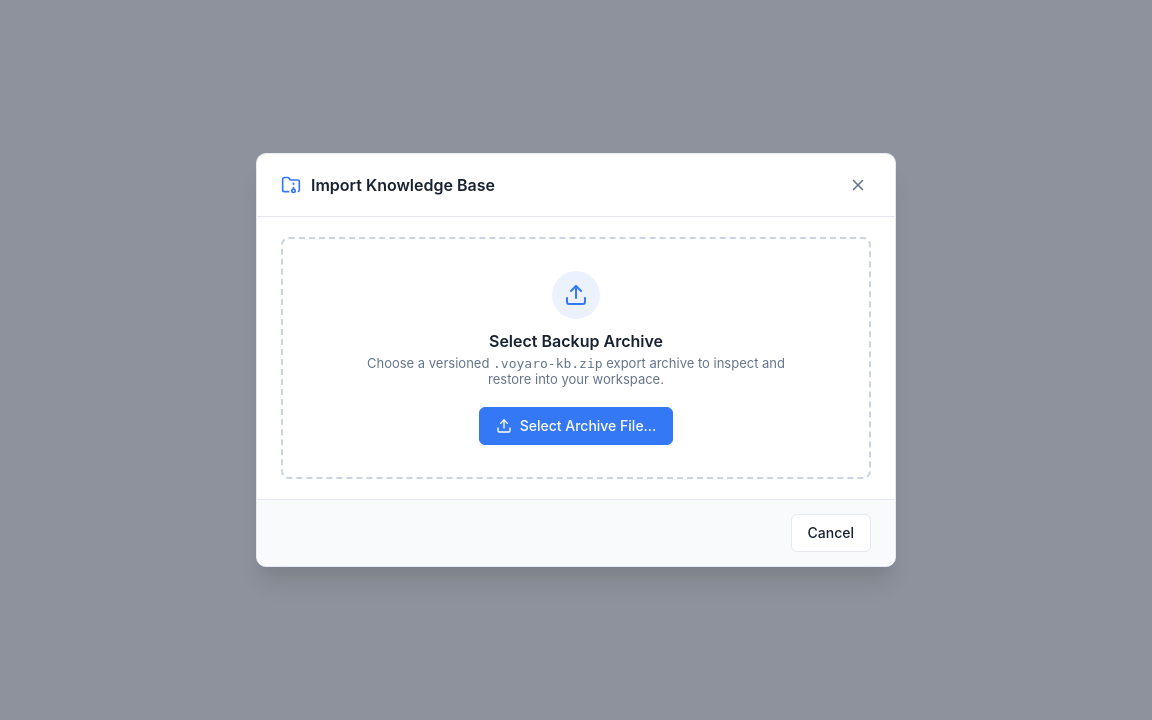
Scenario: ImportKnowledgeBaseModal › 2. renders step 1 (select step) and triggers native archive picker
Expected: the dialog with test id "import-kb-modal" is shown, 256,153 -> 896,567
Expected: the element with test id "import-kb-select-step" is shown, 281,237 -> 871,479
Step 1. Click the button with test id "btn-select-archive-file" → coordinates (576, 426), box 479,407 -> 673,445
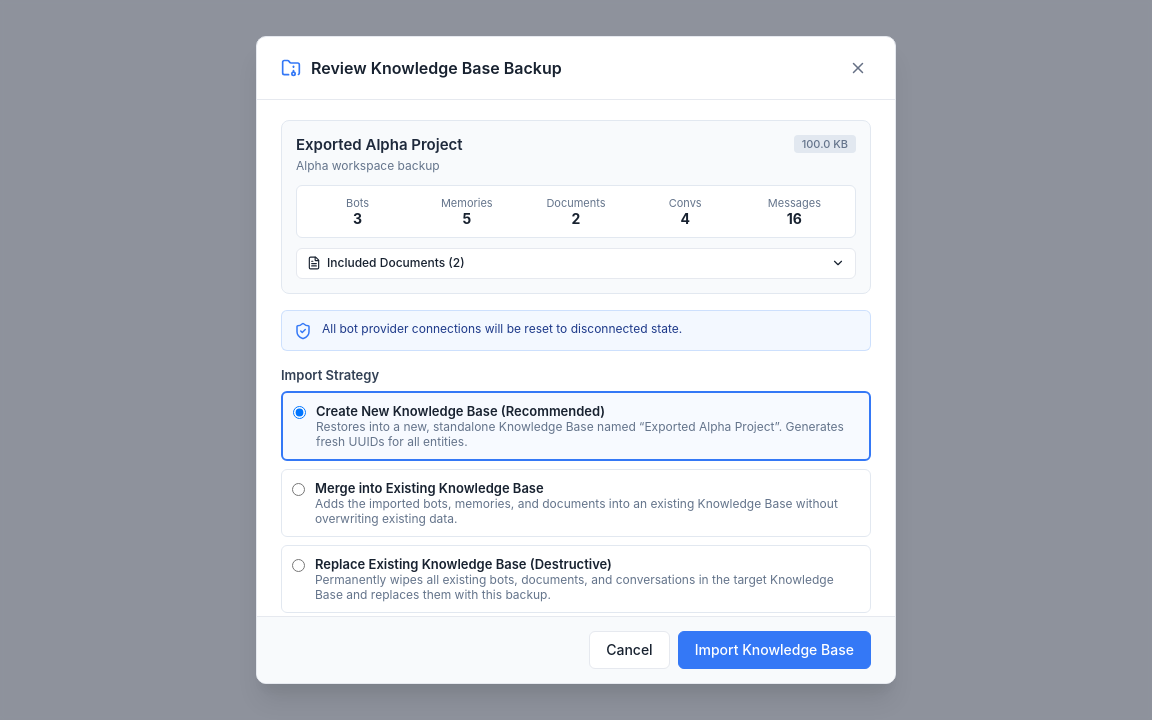
Now the element with test id "import-kb-preview-step" is shown, box 281,120 -> 871,613
Now the heading "Exported Alpha Project" is shown, box 296,135 -> 462,154
Now the element with test id "import-kb-preview-counts" is shown, box 296,185 -> 856,238
